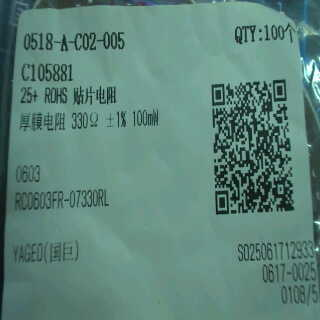330R: (68, 110, 101, 132)
